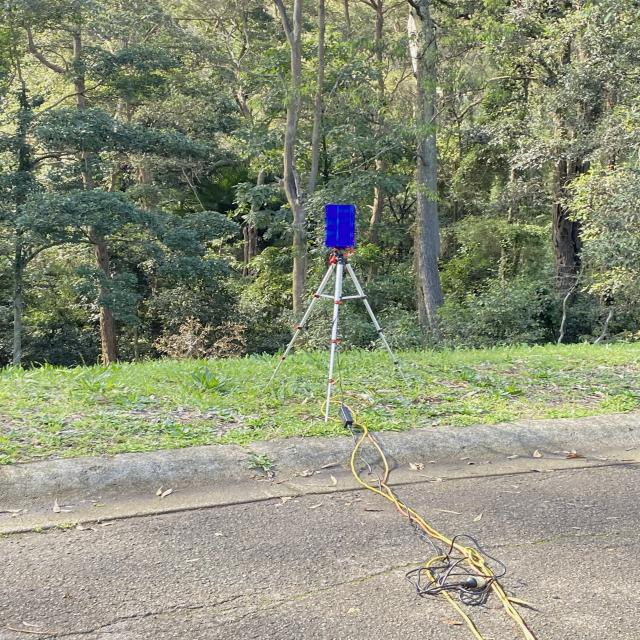matrix: (323, 202, 357, 250)
